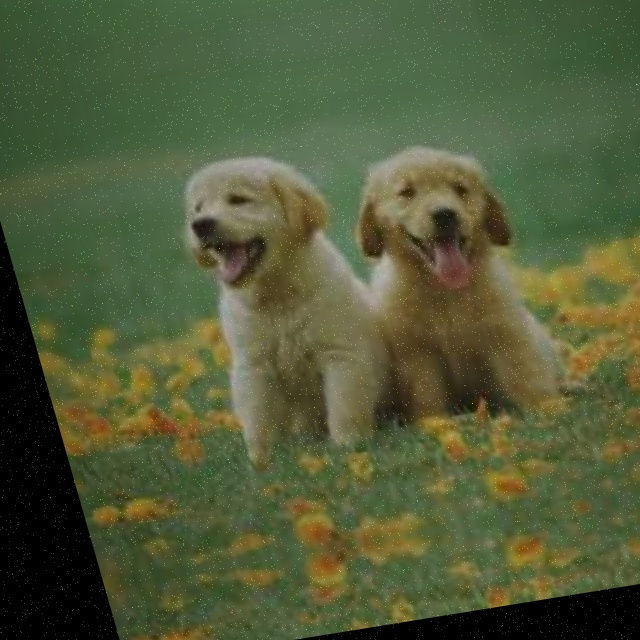dog: (142, 143, 407, 479), (326, 126, 579, 434), (276, 611, 453, 640)
